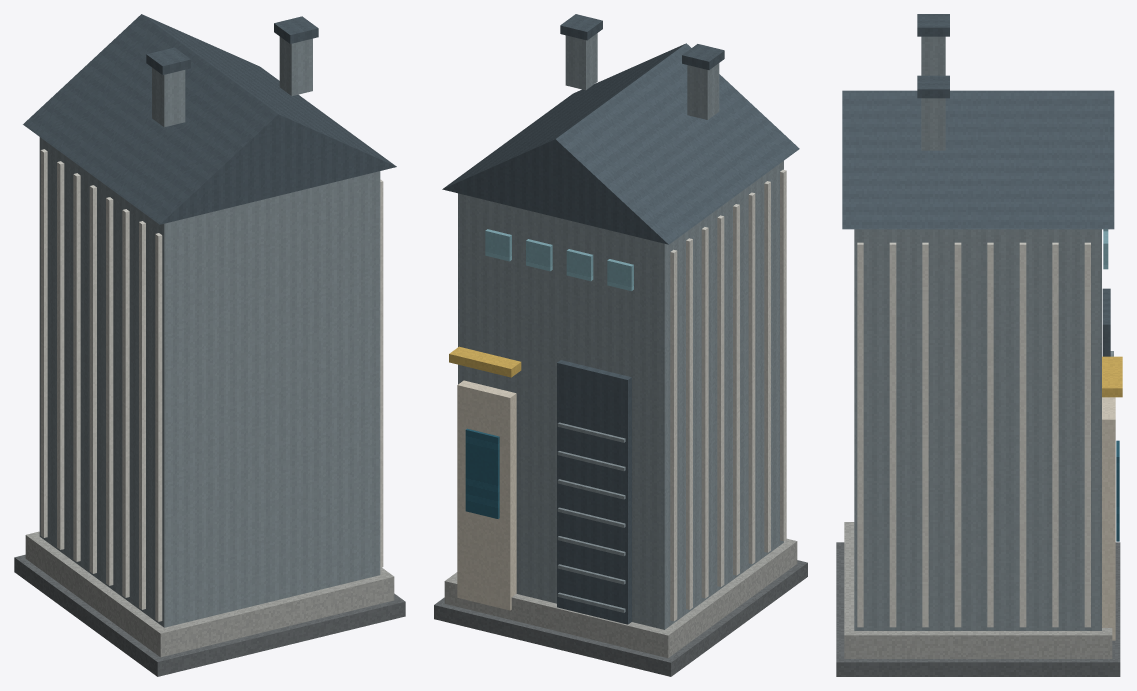
File: small_factory.gltf
3 views of the same model, side by side, from view 1: azimuth 30°, elevation 25°; view 2: azimuth 150°, elevation 25°; view 3: azimuth 270°, elevation 25° (orthographic). The views are drawn at different scales.
Visible parts, largest first — view 1: factory_root; view 2: factory_root; view 3: factory_root.
Boxes of the visible parts, x1,y1,x2,y2 form: factory_root: (14, 14, 405, 676); factory_root: (434, 14, 807, 676); factory_root: (836, 14, 1122, 676).
Size of the model in its own units: 3.5 by 7.68 by 3.53.
Materials: 9 (9 with a texture image).
